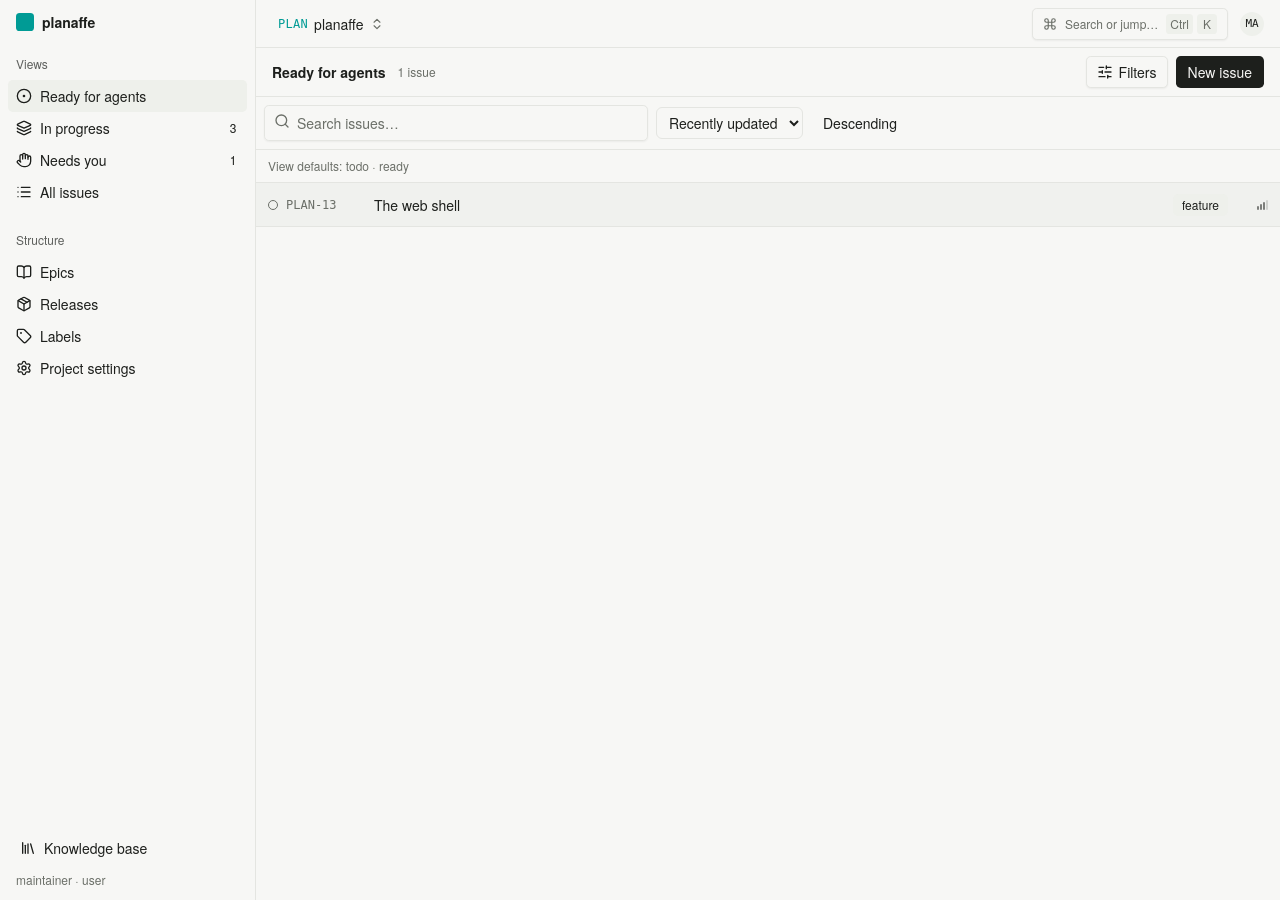
it: the shell (ADR 0006) › offers project creation from the project switcher
Expected: the text "The web shell" is shown, [374,194,460,214]
Click the button "PLAN planaffe" at (331, 24), box [268,8,394,40]
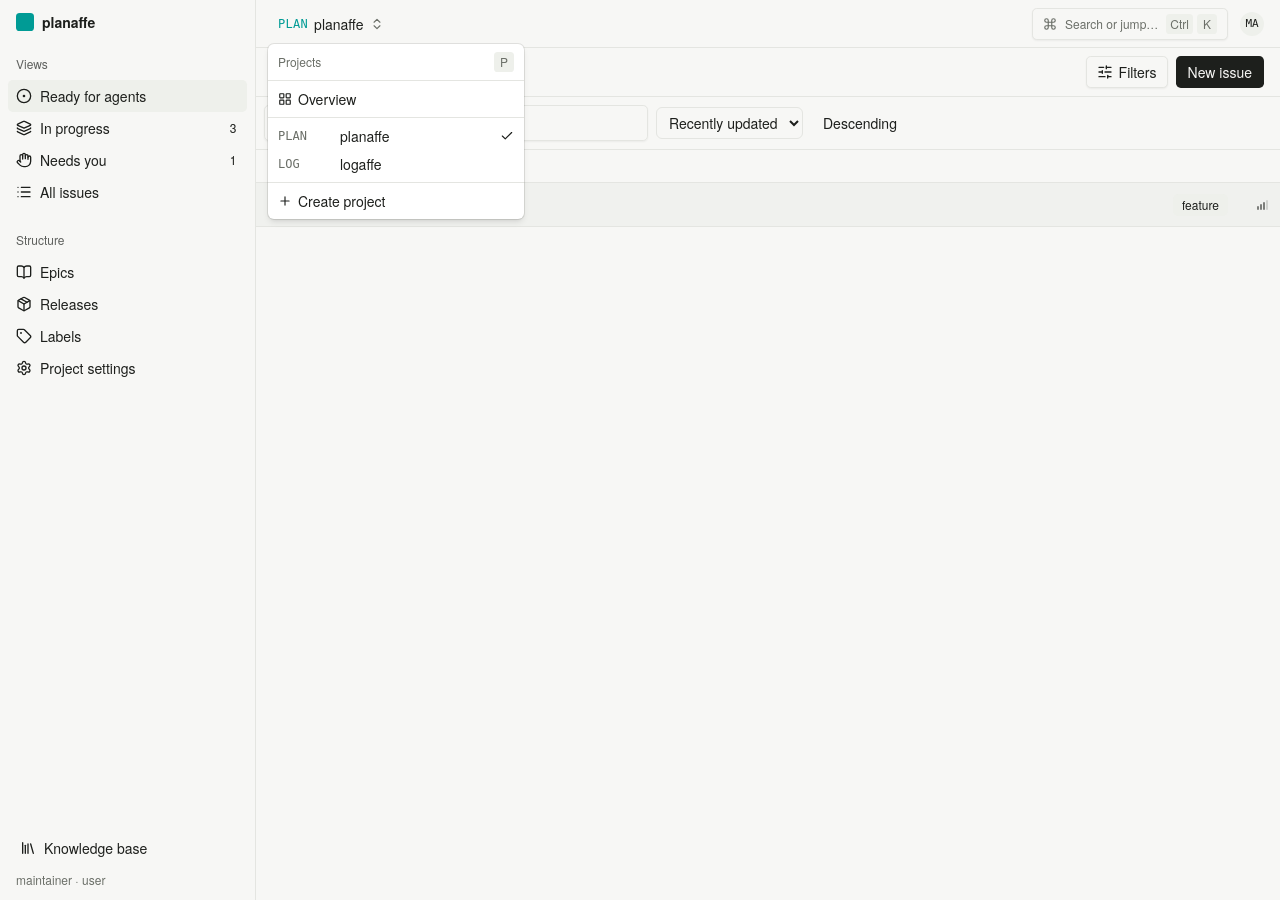
Click the menu item "Create project" at (332, 201), box [278,191,386,211]
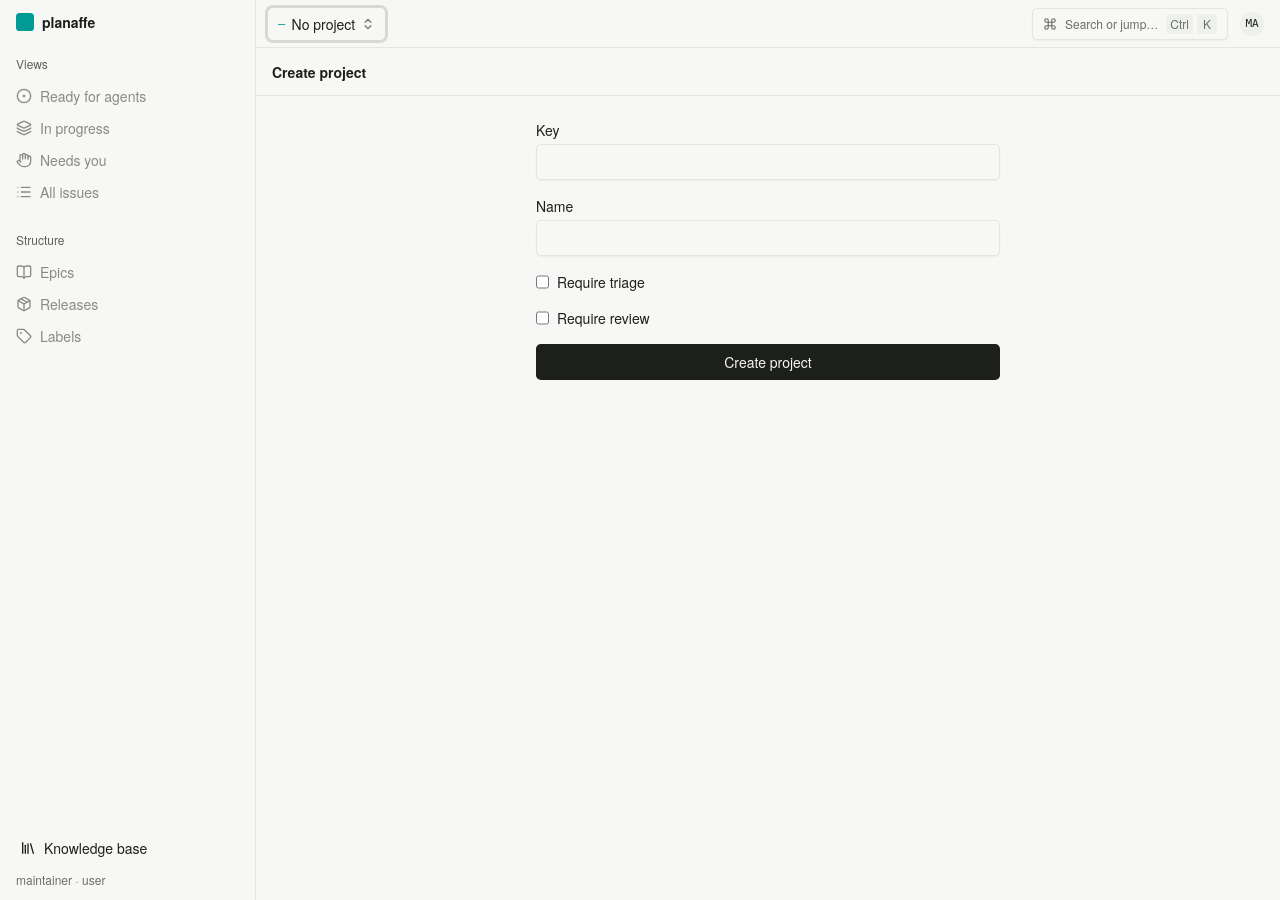
Expected: the heading "Create project" is shown, [272,62,366,82]
